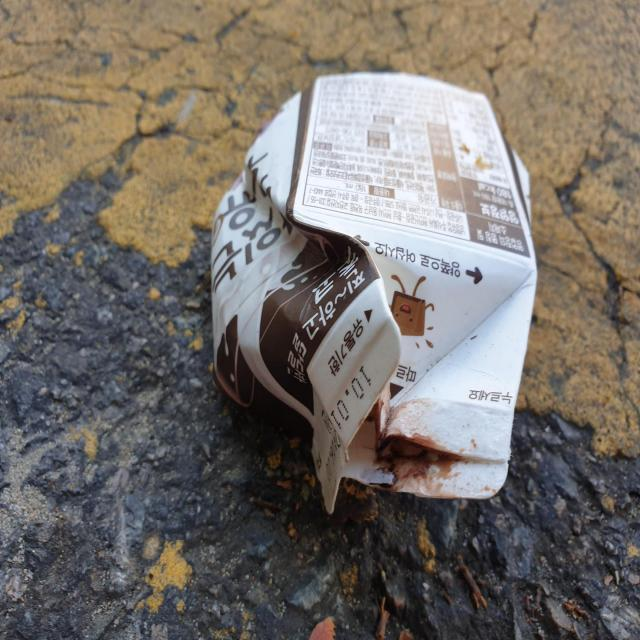paperpack: (211, 72, 538, 513)
